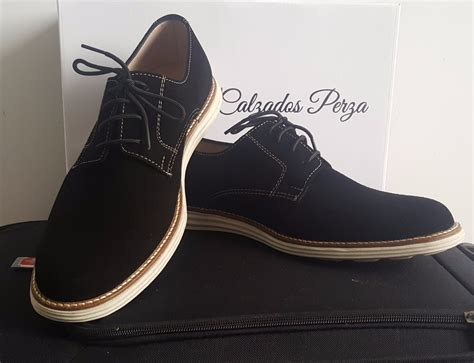gamuza: (31, 13, 454, 304)
